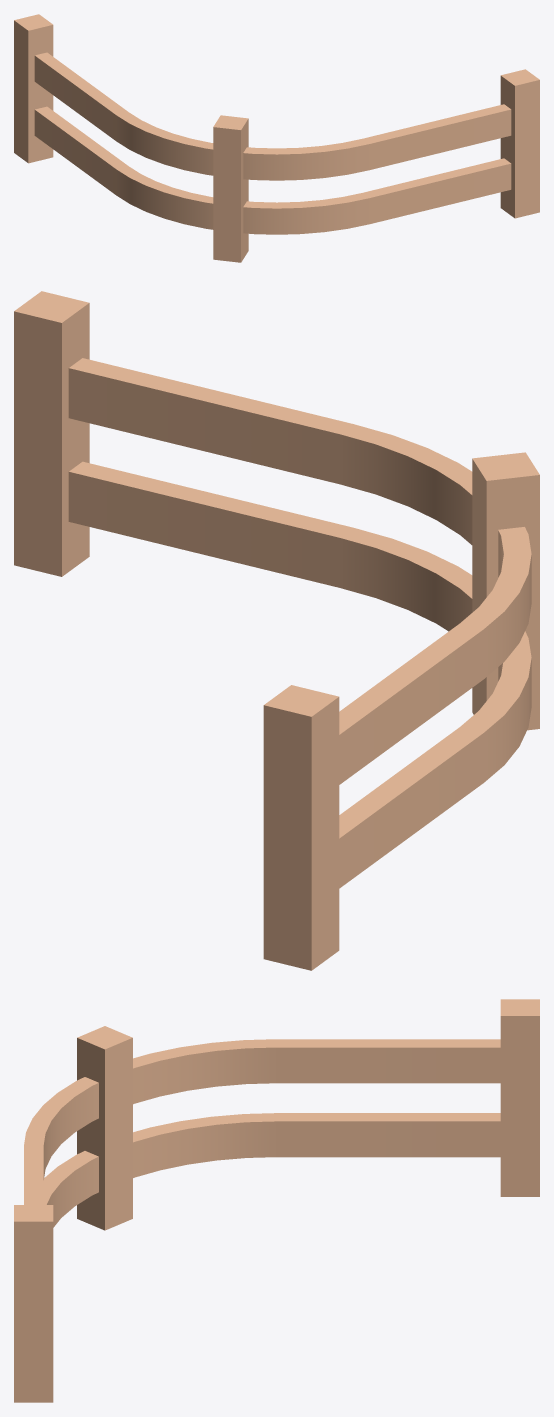
Rendered from fenceCurved.glb.
3 renders of one model, top to bottom at view 1: azimuth 30°, elevation 25°; view 2: azimuth 150°, elevation 25°; view 3: azimuth 270°, elevation 25°, orthographic. The views are drawn at different scales.
Parts seen in each view (by area): view 1: fenceCurved; view 2: fenceCurved; view 3: fenceCurved.
Part boxes in pixels (box(x1,y1,x2,y2)): fenceCurved: box(14, 14, 539, 262); fenceCurved: box(14, 291, 539, 970); fenceCurved: box(14, 999, 539, 1402).
Bounding box in the file's own units: 1 × 0.38 × 1.
